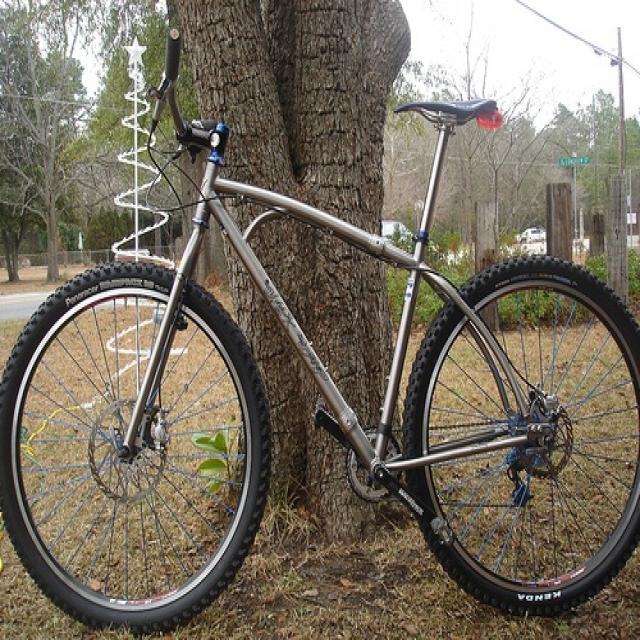bicycle: (2, 25, 640, 626)
